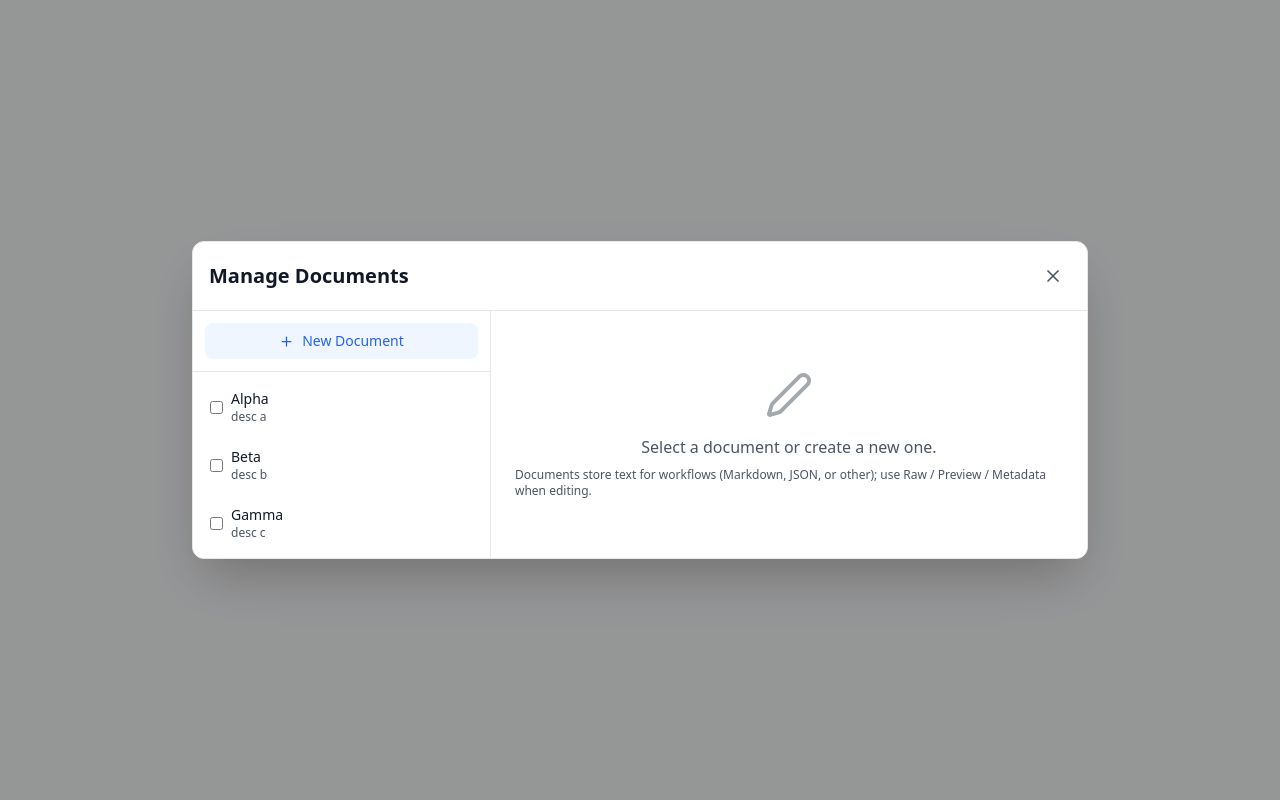
Test case: DocumentManager › fetches the full document and hydrates Body when a checkbox toggles selection on
Expected: the text "Alpha" is shown, [231, 389, 269, 409]
Step 1. Click the checkbox named "select alpha" → {"x": 216, "y": 407}, box [210, 400, 223, 414]
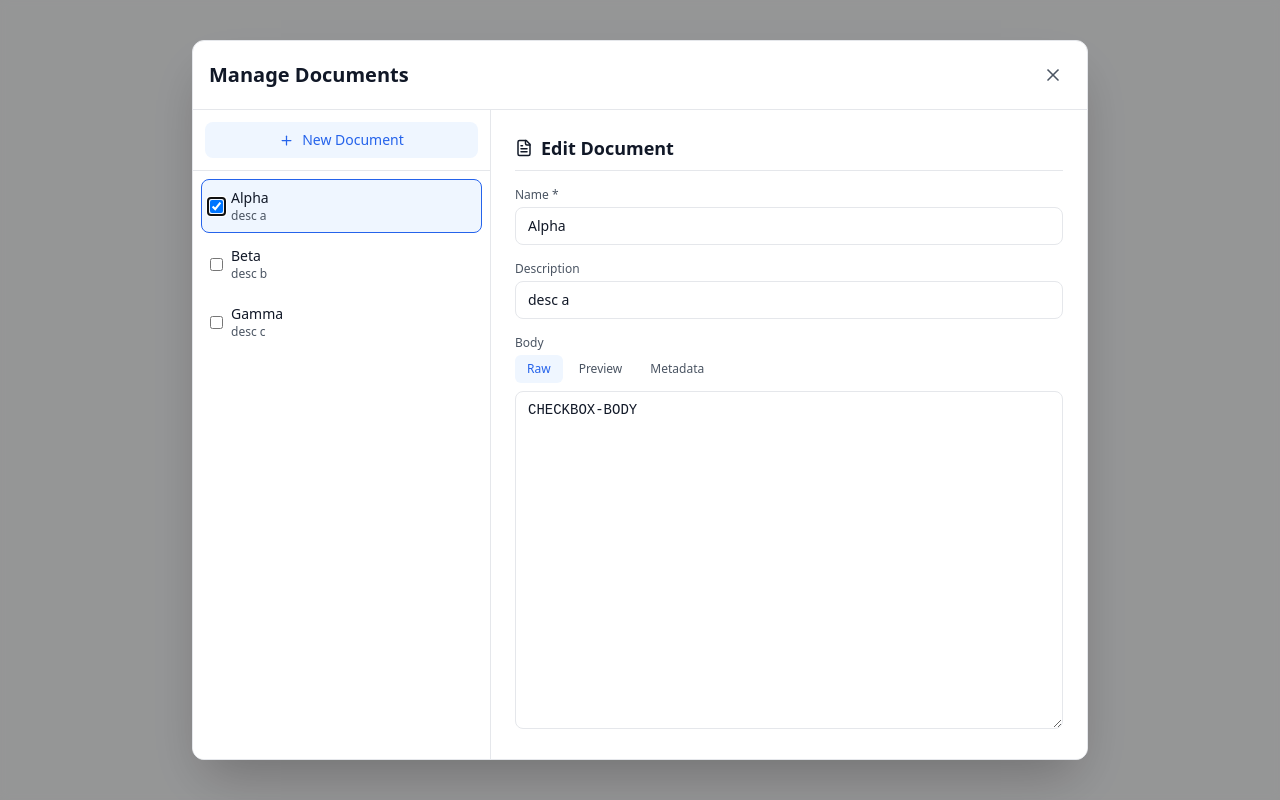
Result: the text box showing "CHECKBOX-BODY" is shown at [515, 391, 1063, 729]
